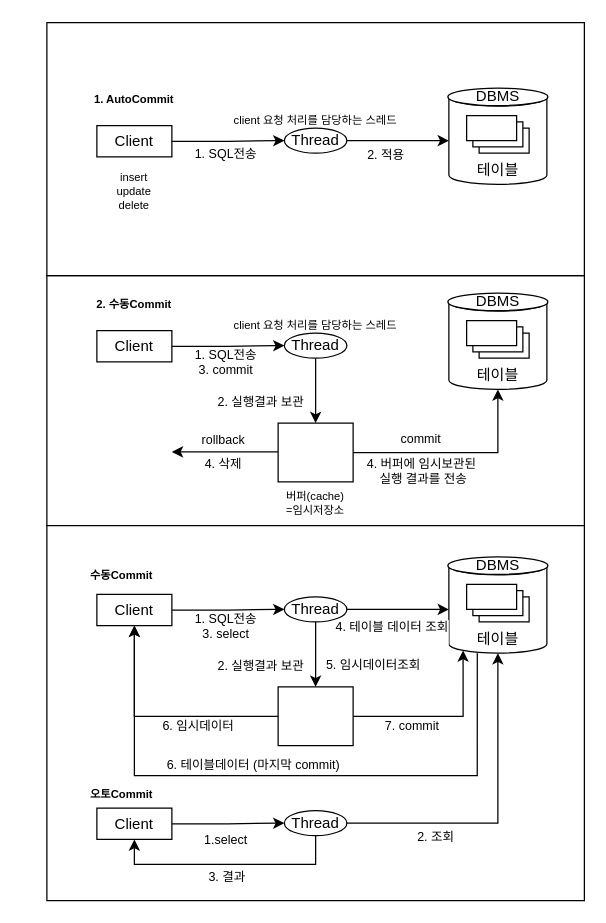
The diagram is 606 pixels wide and 923 high, and some of its shapes have lost their labels. The centre of each missing label's shape, as x and y in pixels:
"insert update . . ." belongs at (315,452).
"insert 결과 insert 결과 update 결과" belongs at (315,716).
